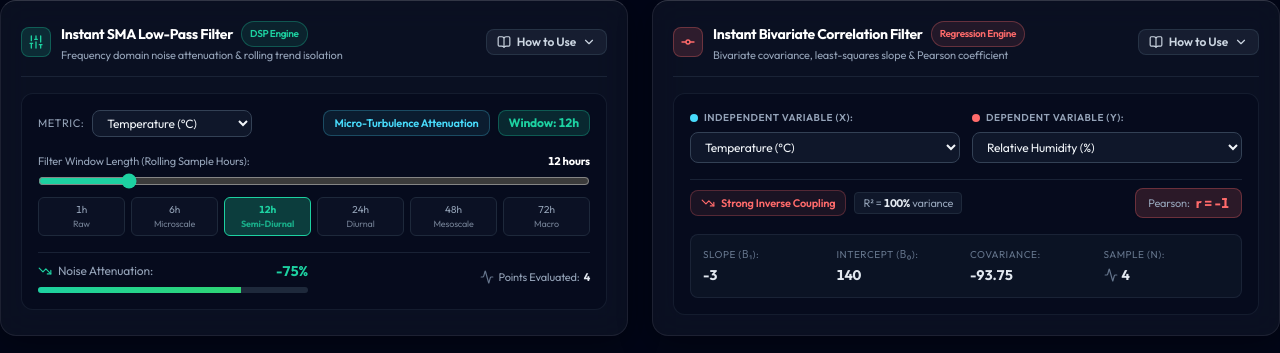
Test: Client-Side Live Calculations & Filter Engine › LiveStatsInspector Component › renders slider and dropdowns, allowing dynamic window adjustment
The image size is (1280, 353).
Expected: the text "Instant SMA Low-Pass Filter" is shown, [61,24,233,44]
Expected: the text "Window: 12h" is shown, [498,110,590,136]
Set the slider with test id "sma-slider" to "24" at (220, 181), box [38,177,590,185]
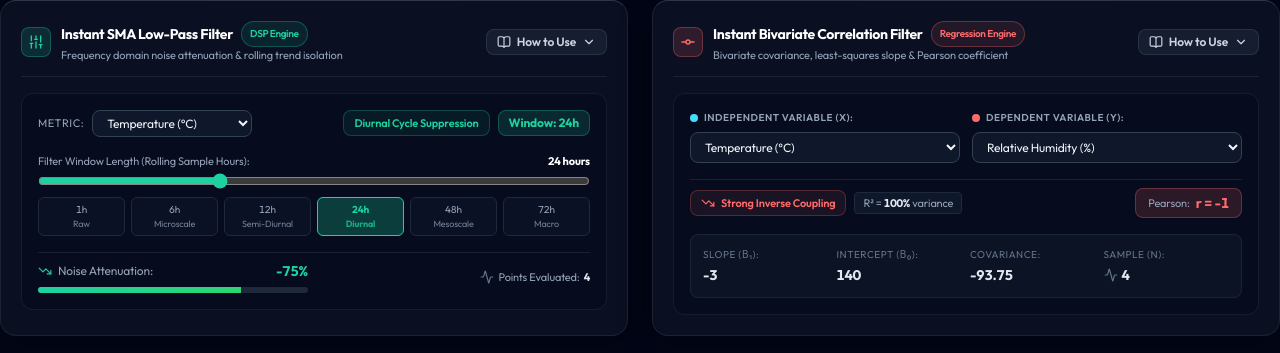
Expected: the text "r = -1" is shown, [1196,192,1229,212]
Expected: the text "Window: 24h" is shown, [498,110,590,136]
